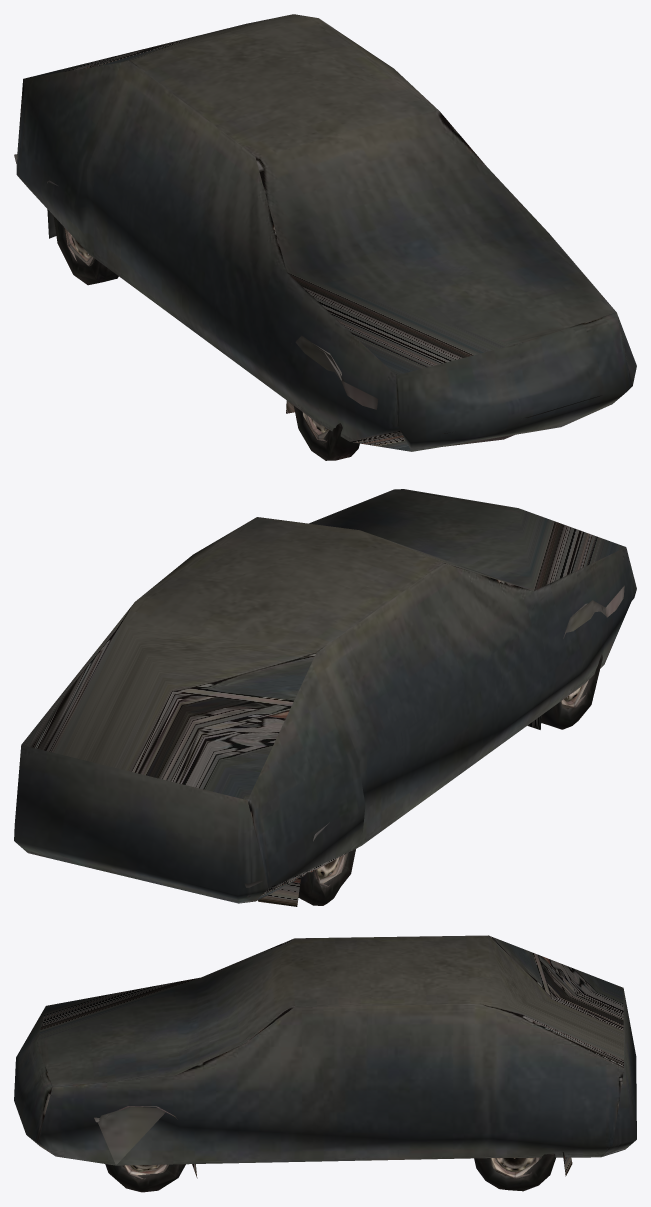
File: covered_car.glb
The picture shows the model from 3 angles, top to bottom: view 1: azimuth 30°, elevation 25°; view 2: azimuth 150°, elevation 25°; view 3: azimuth 270°, elevation 25°; orthographic projection. The views are drawn at different scales.
Visible parts, largest first — view 1: covered_car, covered_car_wheel_02, covered_car_wheel_03; view 2: covered_car, covered_car_wheel_03, covered_car_wheel_02; view 3: covered_car, covered_car_wheel_04, covered_car_wheel_01.
Part boxes in pixels (x1=…): covered_car: x1=14, y1=14, x2=636, y2=451; covered_car_wheel_02: x1=294, y1=406, x2=359, y2=460; covered_car_wheel_03: x1=53, y1=216, x2=118, y2=285; covered_car: x1=14, y1=489, x2=636, y2=906; covered_car_wheel_03: x1=298, y1=849, x2=355, y2=905; covered_car_wheel_02: x1=541, y1=654, x2=602, y2=729; covered_car: x1=14, y1=935, x2=636, y2=1178; covered_car_wheel_04: x1=474, y1=1153, x2=555, y2=1191; covered_car_wheel_01: x1=105, y1=1164, x2=185, y2=1192.
Bounding box in the file's own units: 1.79 × 1.4 × 4.34.
2 materials, 2 textured.
